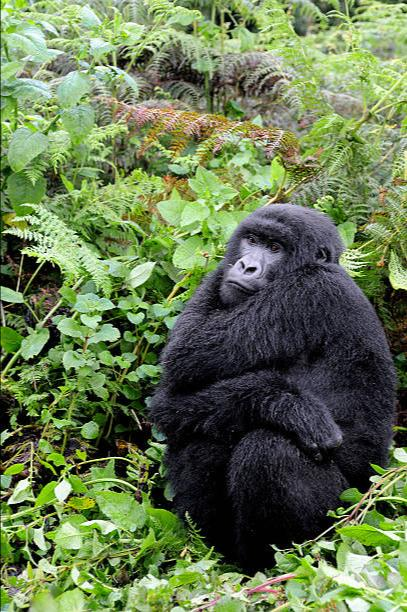goriile_montagne: (155, 194, 407, 540)
